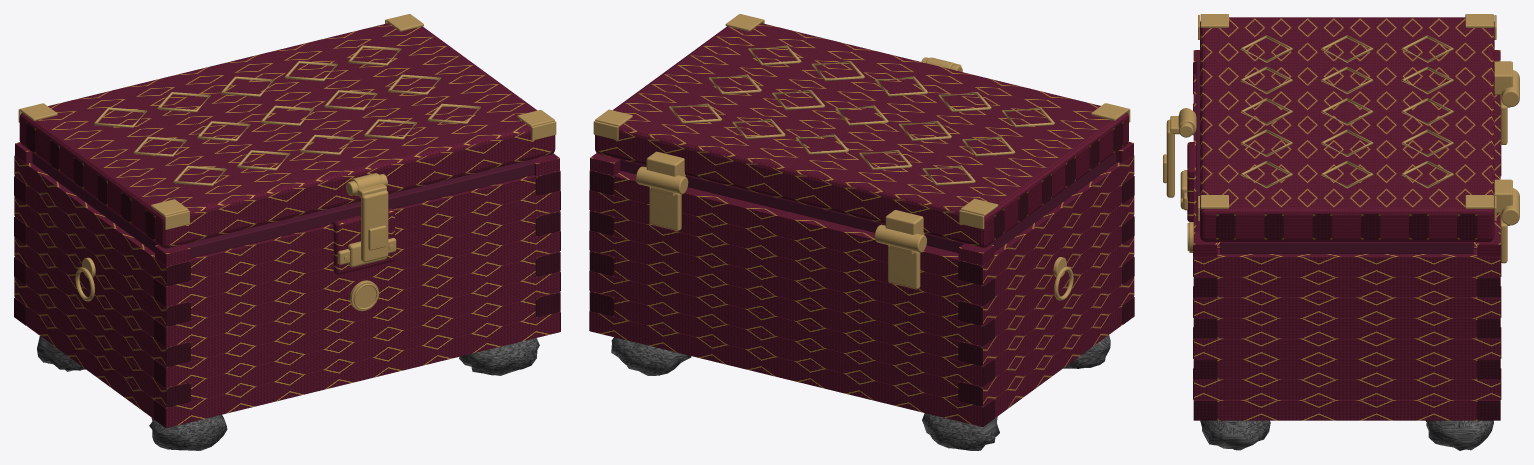
The model's file is brunei.glb.
3 views of the same model, side by side, from view 1: azimuth 30°, elevation 25°; view 2: azimuth 150°, elevation 25°; view 3: azimuth 270°, elevation 25° (orthographic).
Visible parts, largest first — view 1: Lid / polished slab, Tenunan / front course 0, Tenunan / front course 2, Tenunan / front course 4, Tenunan / front course 1, Tenunan / front course 3, Tenunan / front course 6, Tenunan / front course 5, Tenunan / front course 7, Mineral seam / long, Tenunan / side course 7, Tenunan / side course 1 (+14 smaller); view 2: Lid / polished slab, Tenunan / rear course 2, Tenunan / rear course 4, Tenunan / rear course 0, Tenunan / rear course 7, Tenunan / rear course 5, Tenunan / rear course 1, Tenunan / rear course 3, Tenunan / rear course 6, Tenunan / side course 7, Tenunan / side course 1, Tenunan / side course 3 (+18 smaller); view 3: Lid / polished slab, Tenunan / side course 7.001, Tenunan / side course 5.001, Tenunan / side course 3.001, Tenunan / side course 1.001, Tenunan / side course 6.001, Tenunan / side course 0.001, Tenunan / side course 2.001, Tenunan / side course 4.001, Mineral seam / side.001, Granite foot.002, Granite foot.003 (+29 smaller).
Part boxes in pixels (bbox=[...]): Lid / polished slab: bbox=[19, 23, 555, 248]; Tenunan / front course 0: bbox=[155, 312, 559, 428]; Tenunan / front course 2: bbox=[155, 271, 559, 387]; Tenunan / front course 4: bbox=[155, 231, 559, 347]; Tenunan / front course 1: bbox=[190, 298, 535, 401]; Tenunan / front course 3: bbox=[190, 257, 535, 361]; Tenunan / front course 6: bbox=[155, 191, 559, 306]; Tenunan / front course 5: bbox=[190, 217, 535, 320]; Tenunan / front course 7: bbox=[190, 175, 535, 280]; Mineral seam / long: bbox=[185, 159, 534, 258]; Tenunan / side course 7: bbox=[14, 156, 190, 286]; Tenunan / side course 1: bbox=[14, 277, 190, 407]; Lid / polished slab: bbox=[595, 23, 1128, 247]; Tenunan / rear course 2: bbox=[590, 271, 994, 386]; Tenunan / rear course 4: bbox=[590, 230, 994, 346]; Tenunan / rear course 0: bbox=[590, 311, 993, 426]; Tenunan / rear course 7: bbox=[614, 171, 958, 279]; Tenunan / rear course 5: bbox=[614, 216, 958, 320]; Tenunan / rear course 1: bbox=[614, 297, 958, 400]; Tenunan / rear course 3: bbox=[614, 256, 958, 360]; Tenunan / rear course 6: bbox=[590, 190, 993, 305]; Tenunan / side course 7: bbox=[959, 155, 1133, 285]; Tenunan / side course 1: bbox=[959, 277, 1133, 406]; Tenunan / side course 3: bbox=[959, 236, 1133, 366]; Lid / polished slab: bbox=[1200, 17, 1494, 241]; Tenunan / side course 7.001: bbox=[1194, 249, 1500, 277]; Tenunan / side course 5.001: bbox=[1194, 297, 1500, 318]; Tenunan / side course 3.001: bbox=[1194, 338, 1500, 359]; Tenunan / side course 1.001: bbox=[1194, 379, 1500, 399]; Tenunan / side course 6.001: bbox=[1217, 277, 1477, 297]; Tenunan / side course 0.001: bbox=[1217, 400, 1477, 420]; Tenunan / side course 2.001: bbox=[1217, 359, 1477, 379]; Tenunan / side course 4.001: bbox=[1217, 318, 1477, 338]; Mineral seam / side.001: bbox=[1220, 242, 1473, 253]; Granite foot.002: bbox=[1200, 420, 1270, 450]; Granite foot.003: bbox=[1426, 420, 1493, 450].
Bounding box in the file's own units: 3.79 × 2.31 × 2.88.
Materials: 5 (3 with a texture image).
